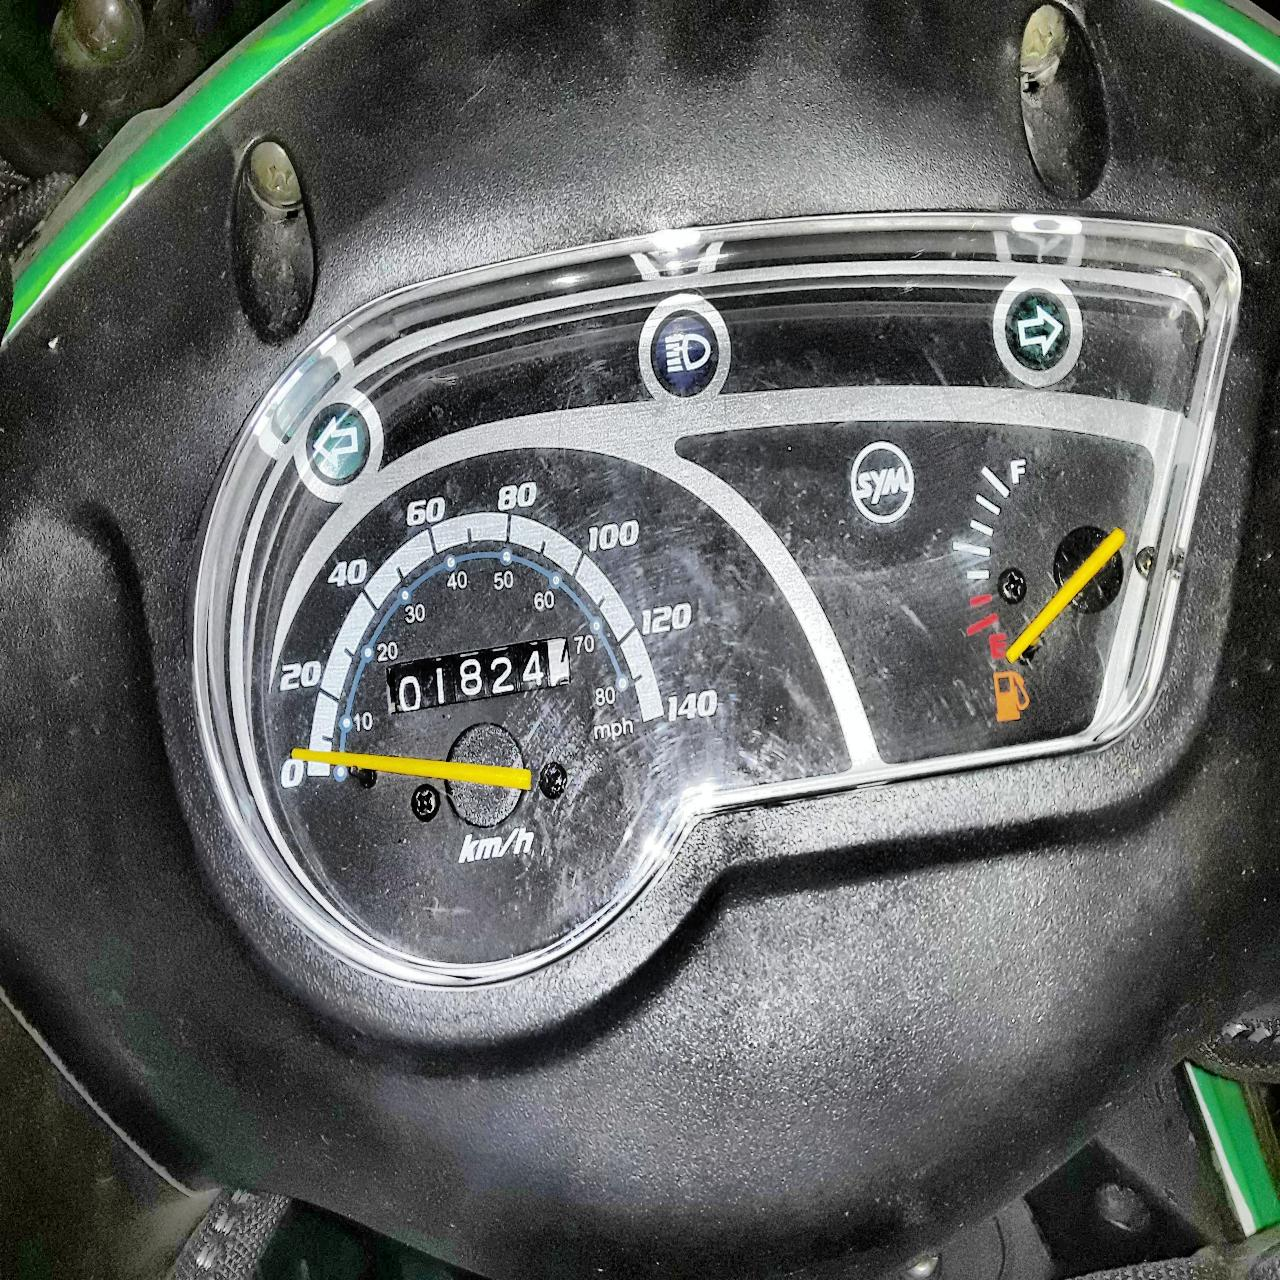0: (396, 668, 425, 716), (388, 640, 399, 662)
1: (433, 665, 449, 712)
2: (489, 655, 516, 699), (376, 640, 387, 663)
4: (520, 646, 545, 694)
7: (549, 635, 571, 666)
8: (458, 658, 483, 701)
odometer: (376, 631, 576, 726)
